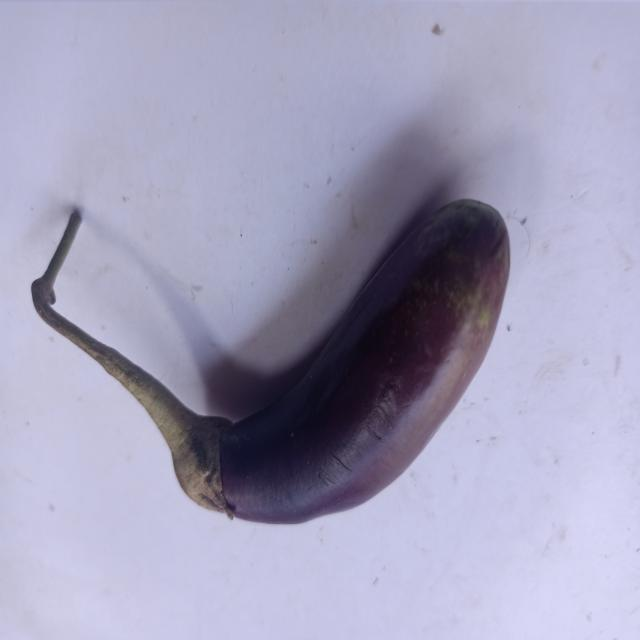Brinjal: (20, 142, 532, 550)
